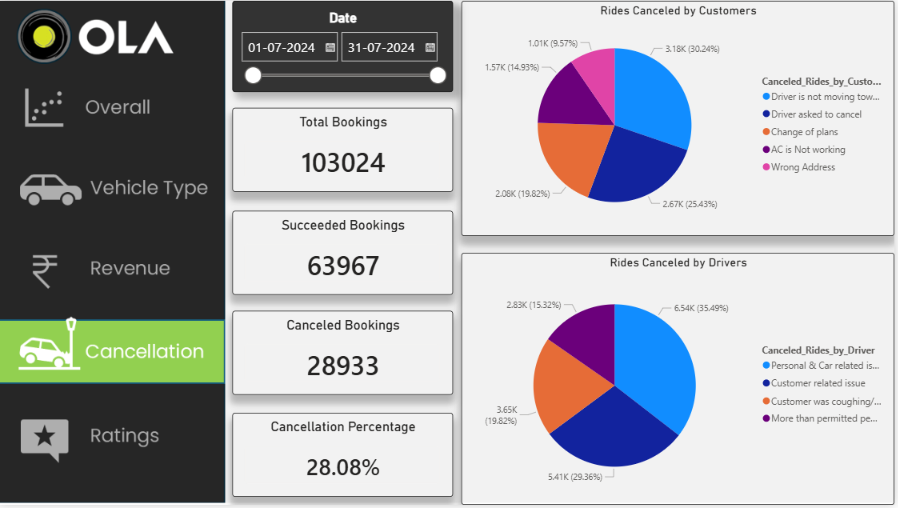

The page's visual inventory and layout, read from the dashboard file:
{"tool":"powerbi","page":{"name":"Cancellations","canvas":[1280,720],"ordinal":3},"visuals":[{"type":"actionButton","box":[0,107.4,324.5,91.7],"z":0},{"type":"actionButton","box":[0,219.6,324.5,91.7],"z":1000},{"type":"actionButton","box":[0,336.6,324.5,91.7],"z":2000},{"type":"actionButton","box":[1.2,575.5,324.5,91.7],"z":3000},{"type":"pieChart","title":"Rides Canceled by Customers","fields":{"Category":["July.Canceled_Rides_by_Customer"],"Y":["CountNonNull(July.Canceled_Rides_by_Customer)"]},"box":[661.2,0,618.8,336.2],"z":4000},{"type":"pieChart","title":"Rides Canceled by Drivers","fields":{"Y":["CountNonNull(July.Canceled_Rides_by_Driver)"],"Category":["July.Canceled_Rides_by_Driver"]},"box":[661.2,360,618.8,360],"z":5000},{"type":"slicer","title":"Date","fields":{"Values":["July.Date"]},"box":[335,0,315,130],"z":6000},{"type":"cardVisual","title":"Total Bookings","fields":{"Data":["July.TotalBookings"]},"box":[335,153.3,315,120],"z":7000},{"type":"cardVisual","title":"Succeeded Bookings","fields":{"Data":["CountNonNull(July.Booking_ID)"]},"box":[335,300,315,120],"z":8000},{"type":"cardVisual","title":"Canceled Bookings","fields":{"Data":["July.CanceledBookings"]},"box":[335,443.3,315,120],"z":9000},{"type":"cardVisual","title":"Cancellation Percentage","fields":{"Data":["July.CancellationPercentage"]},"box":[335,588.3,315,120],"z":9001}]}

Visuals, with their boxes on the page's 1280x720 design canvas (x1, y1, x2, y2). These are canvas units, not pixel positions in the 898x508 screenshot, which may show the page scaled, cropped or inside an application window:
actionButton: bbox=[0, 107, 324, 199]
actionButton: bbox=[0, 220, 324, 311]
actionButton: bbox=[0, 337, 324, 428]
actionButton: bbox=[1, 576, 326, 667]
"Rides Canceled by Customers" pieChart: bbox=[661, 0, 1280, 336]
"Rides Canceled by Drivers" pieChart: bbox=[661, 360, 1280, 720]
"Date" slicer: bbox=[335, 0, 650, 130]
"Total Bookings" cardVisual: bbox=[335, 153, 650, 273]
"Succeeded Bookings" cardVisual: bbox=[335, 300, 650, 420]
"Canceled Bookings" cardVisual: bbox=[335, 443, 650, 563]
"Cancellation Percentage" cardVisual: bbox=[335, 588, 650, 708]
